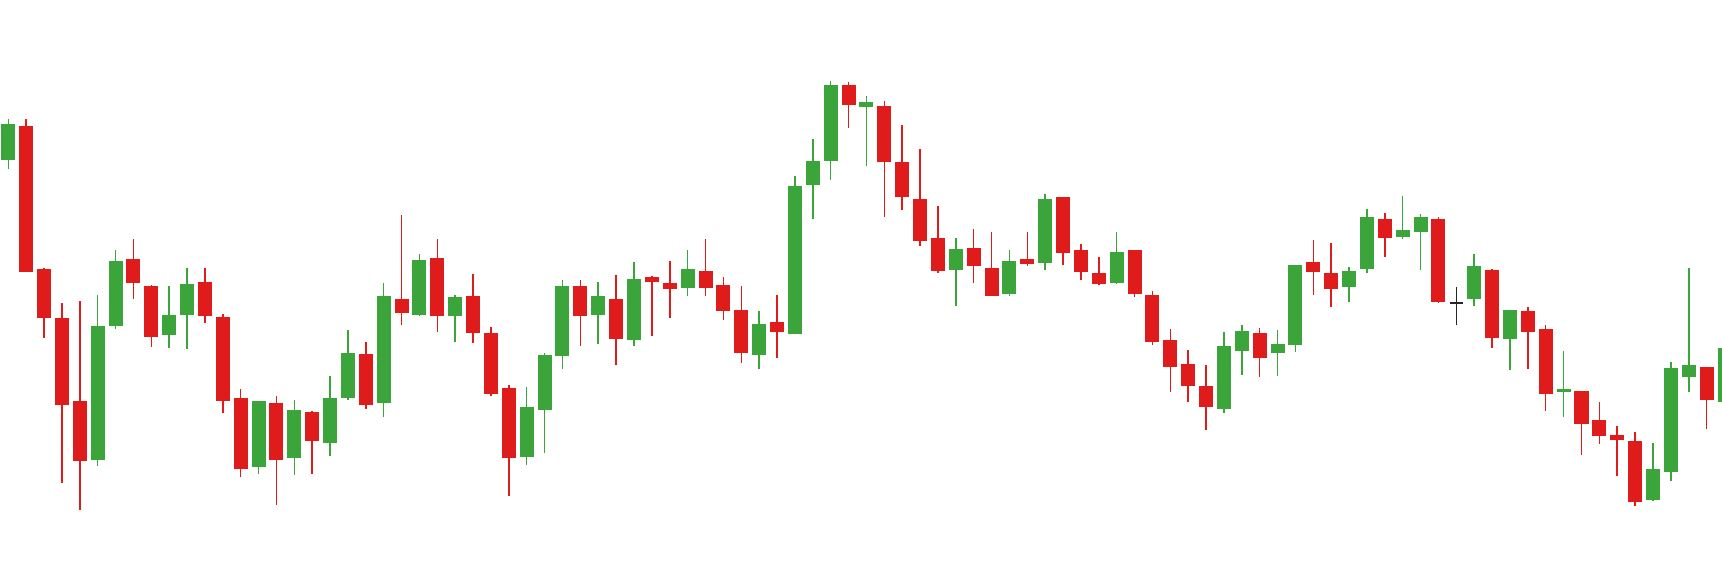buy: (306, 320, 532, 499), (610, 282, 767, 370)
